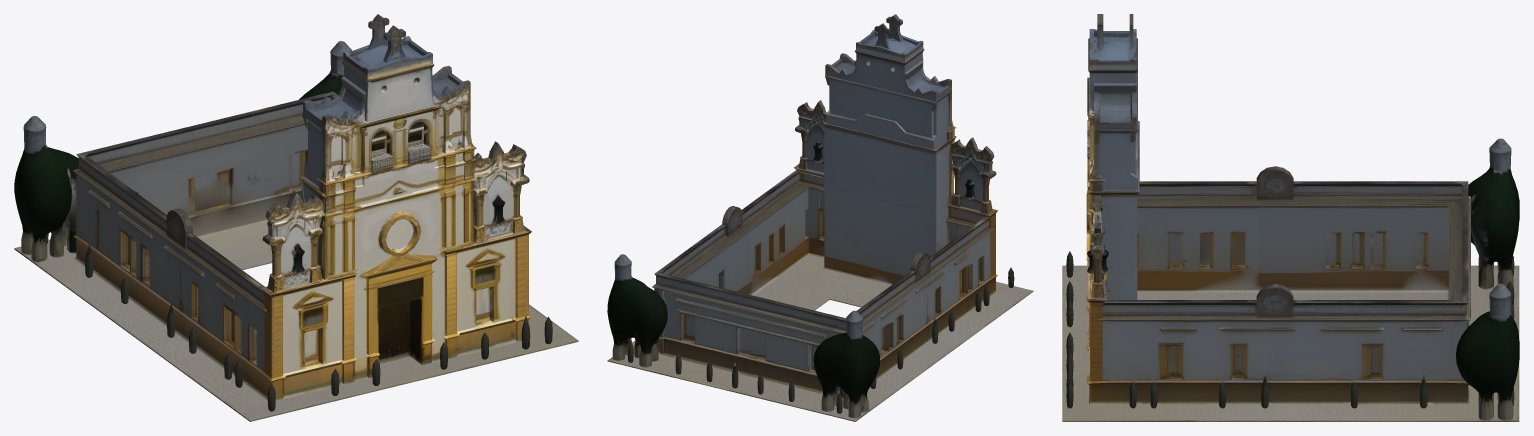
Rendered from iglesia.glb.
The picture shows the model from 3 angles, left to right: view 1: azimuth 30°, elevation 25°; view 2: azimuth 150°, elevation 25°; view 3: azimuth 270°, elevation 25°; orthographic projection. The views are drawn at different scales.
Visible parts, largest first — view 1: mesh_rep_0_ori_repair_quad.001; view 2: mesh_rep_0_ori_repair_quad.001; view 3: mesh_rep_0_ori_repair_quad.001.
Boxes of the visible parts, left/top/right/bottom form: mesh_rep_0_ori_repair_quad.001: left=14, top=14, right=578, bottom=421; mesh_rep_0_ori_repair_quad.001: left=607, top=14, right=1033, bottom=421; mesh_rep_0_ori_repair_quad.001: left=1062, top=14, right=1519, bottom=421.
Size of the model in its own units: 1.05 by 0.9944 by 1.25.
1 material, 1 textured.
